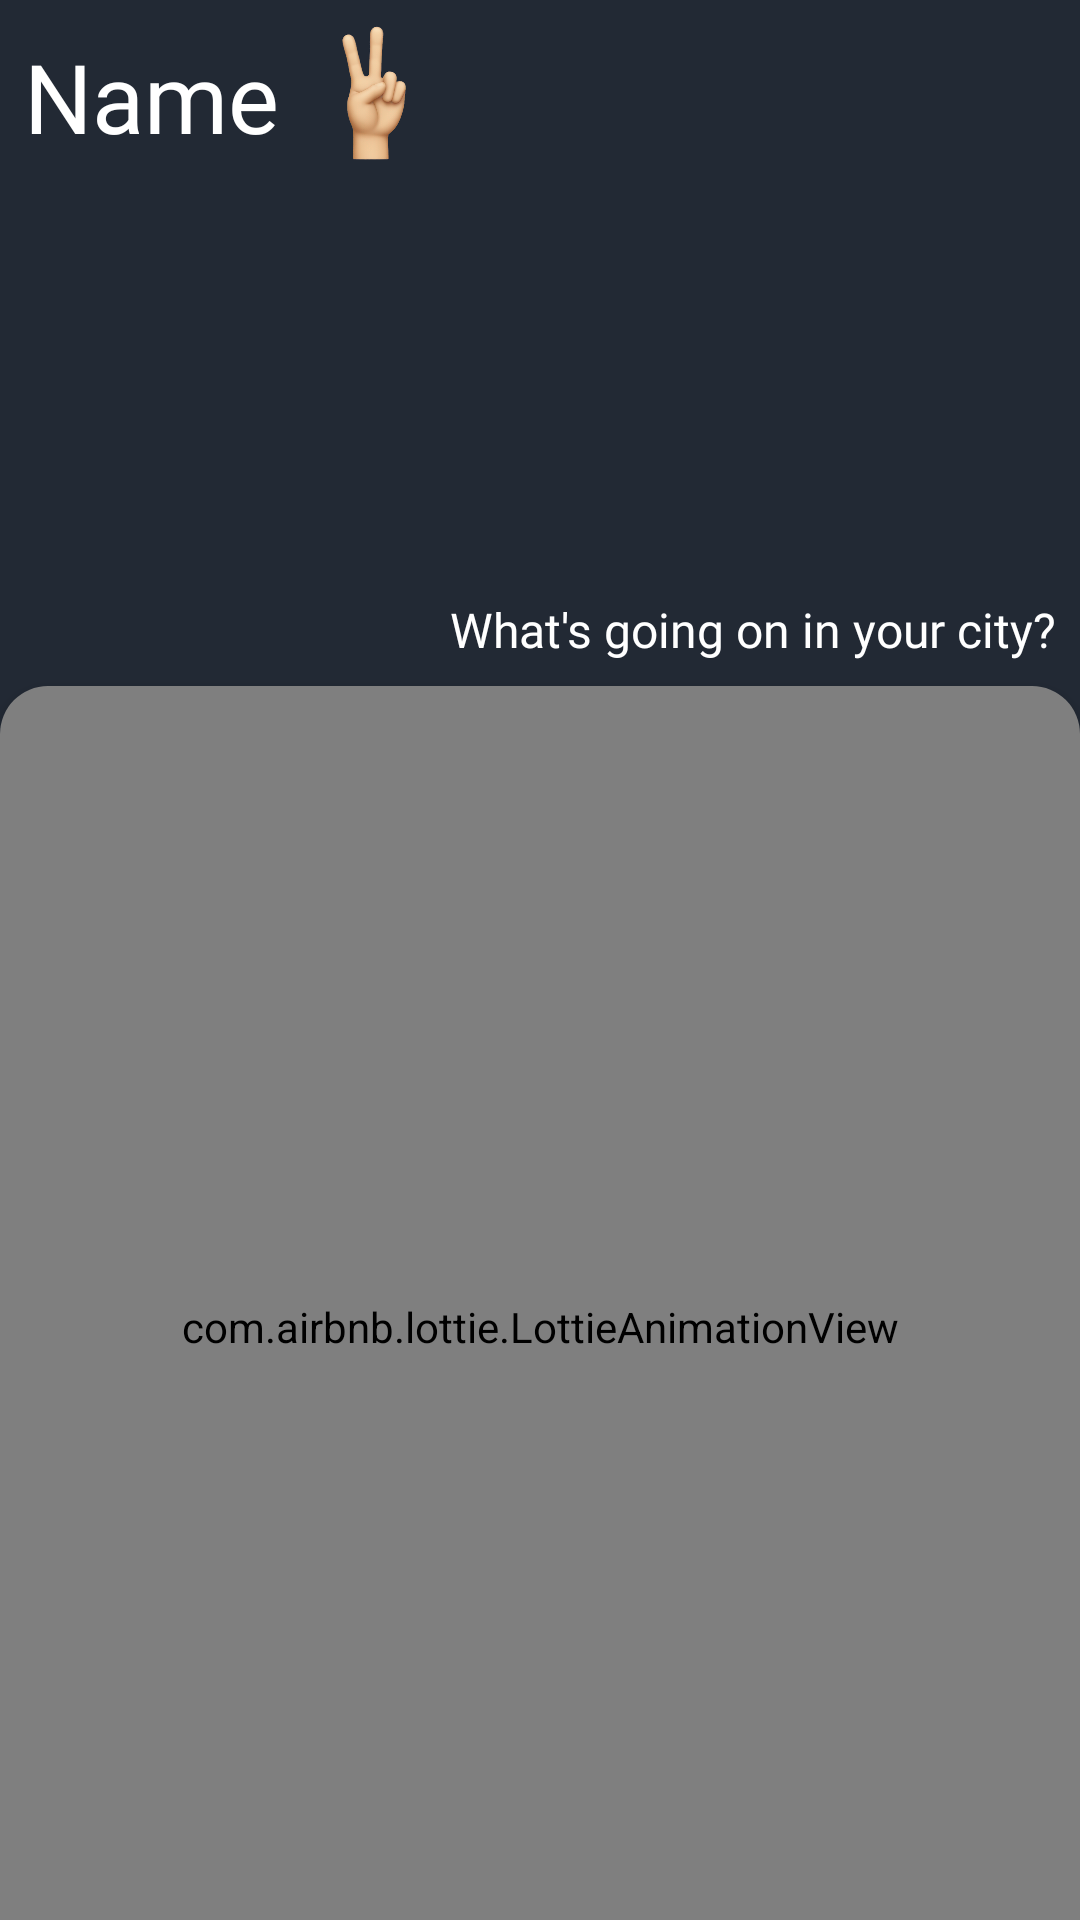

Named icons in this screenshot (1080×1920) and their centers, (x=x, y=y):
Victory Sign: (x=374, y=93)
